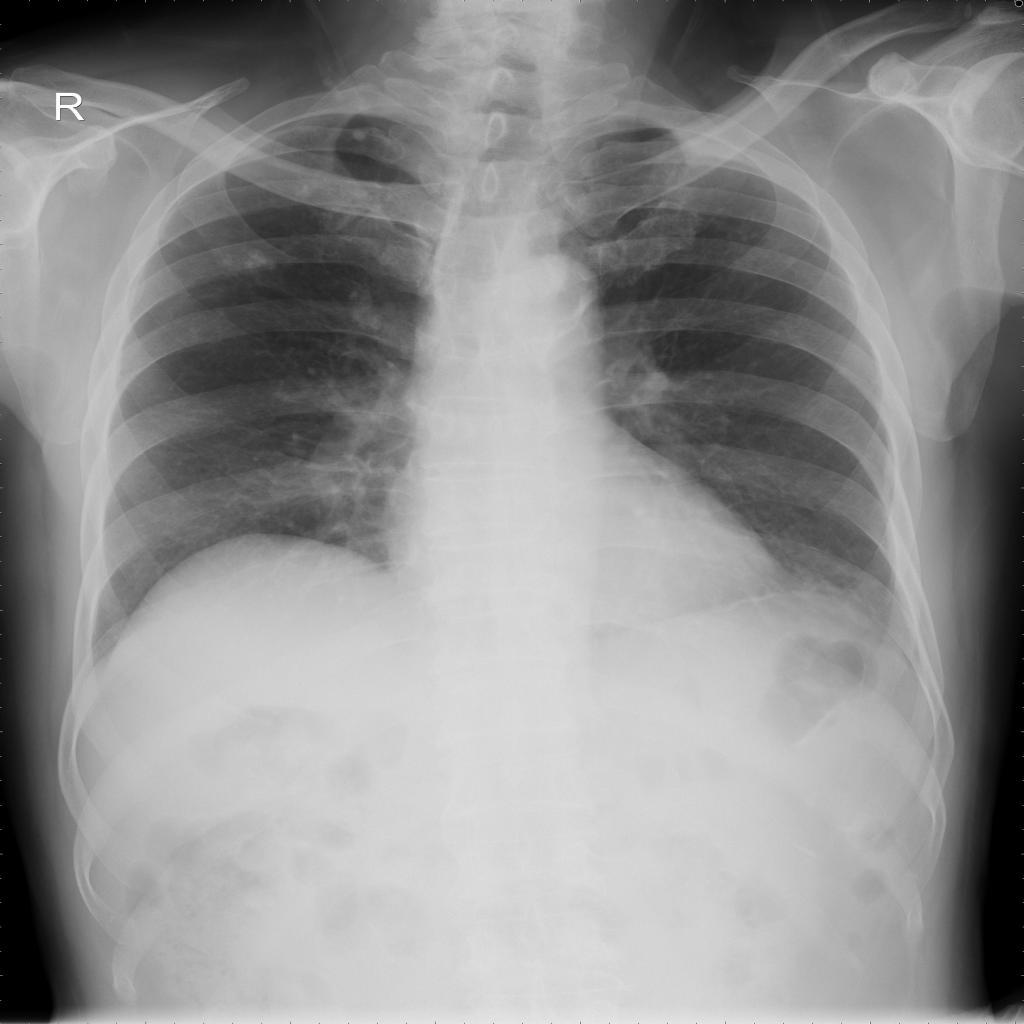Nodule: (352, 132, 367, 142)
